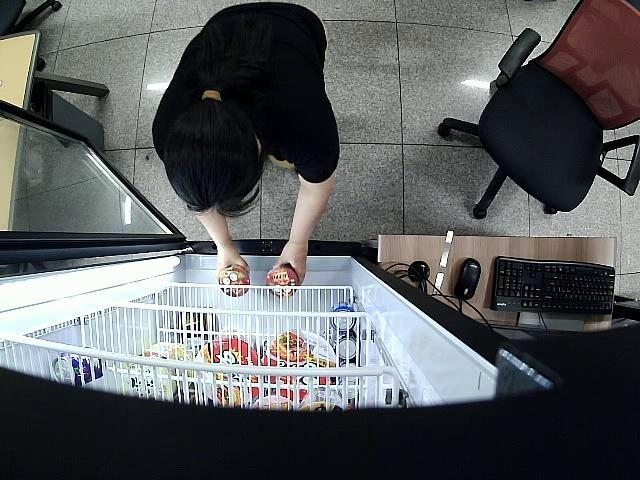06_nuguri_S: (263, 264, 300, 300), (215, 262, 252, 296)
